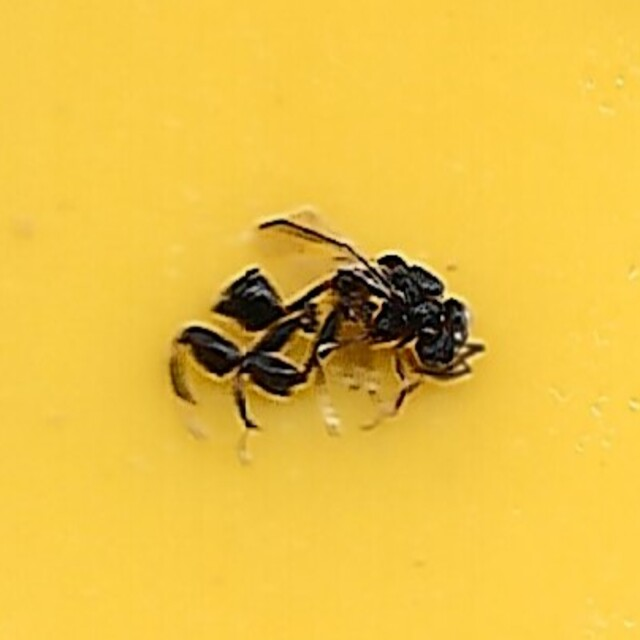Hymenoptera: (158, 193, 482, 447)
